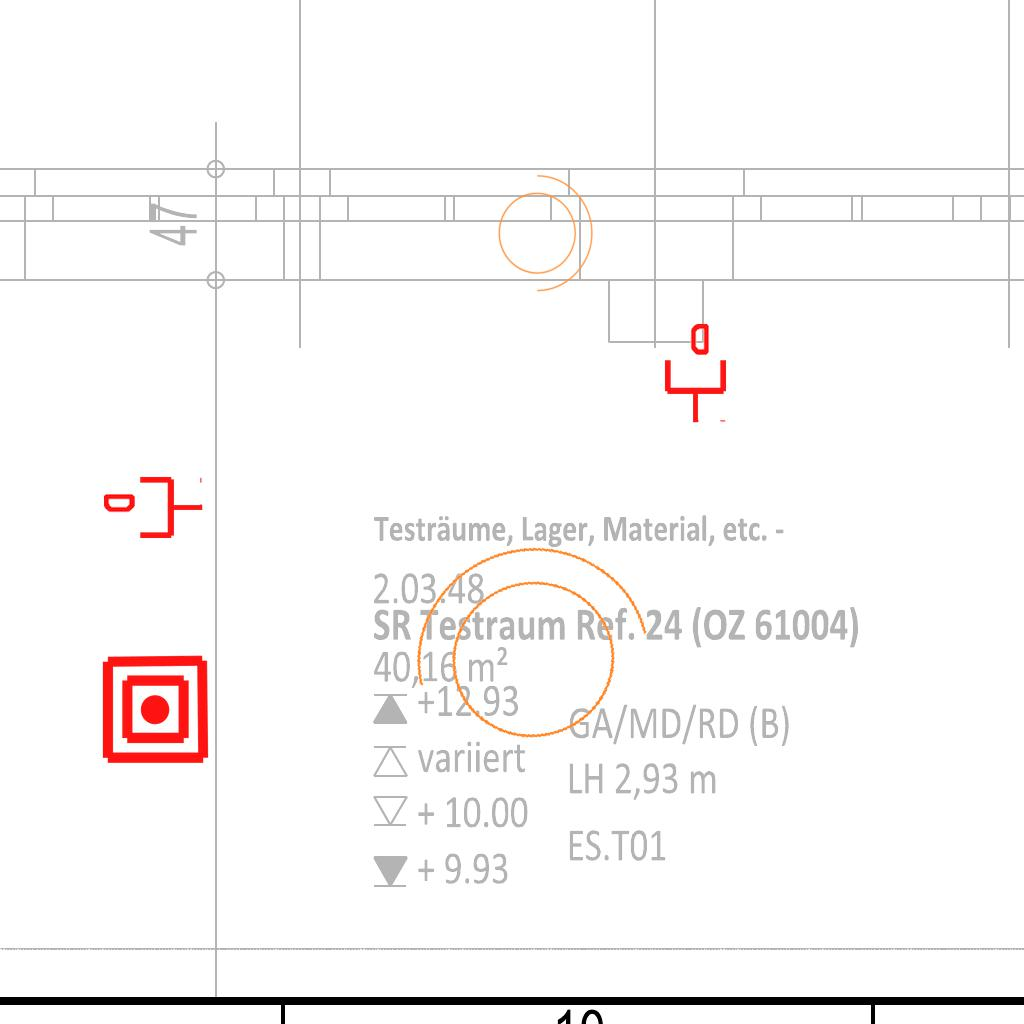Datenanschluss_einfach: (661, 324, 730, 424), (104, 473, 204, 542)
NAM-Nichtautomatischer_Melder: (99, 653, 212, 766)
Scheinwerfer_fuer_Alarmbeleuchtung: (371, 512, 679, 791), (486, 164, 598, 296)
